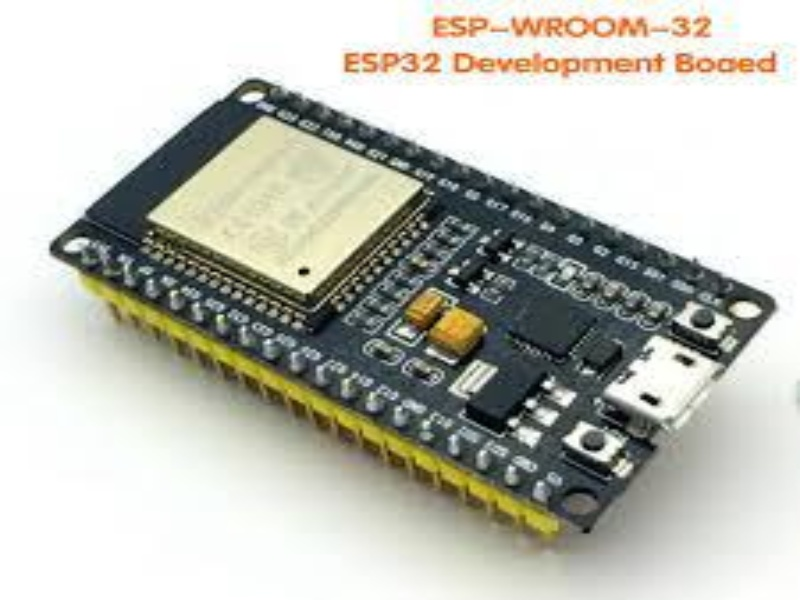esp32: (58, 74, 749, 547)
